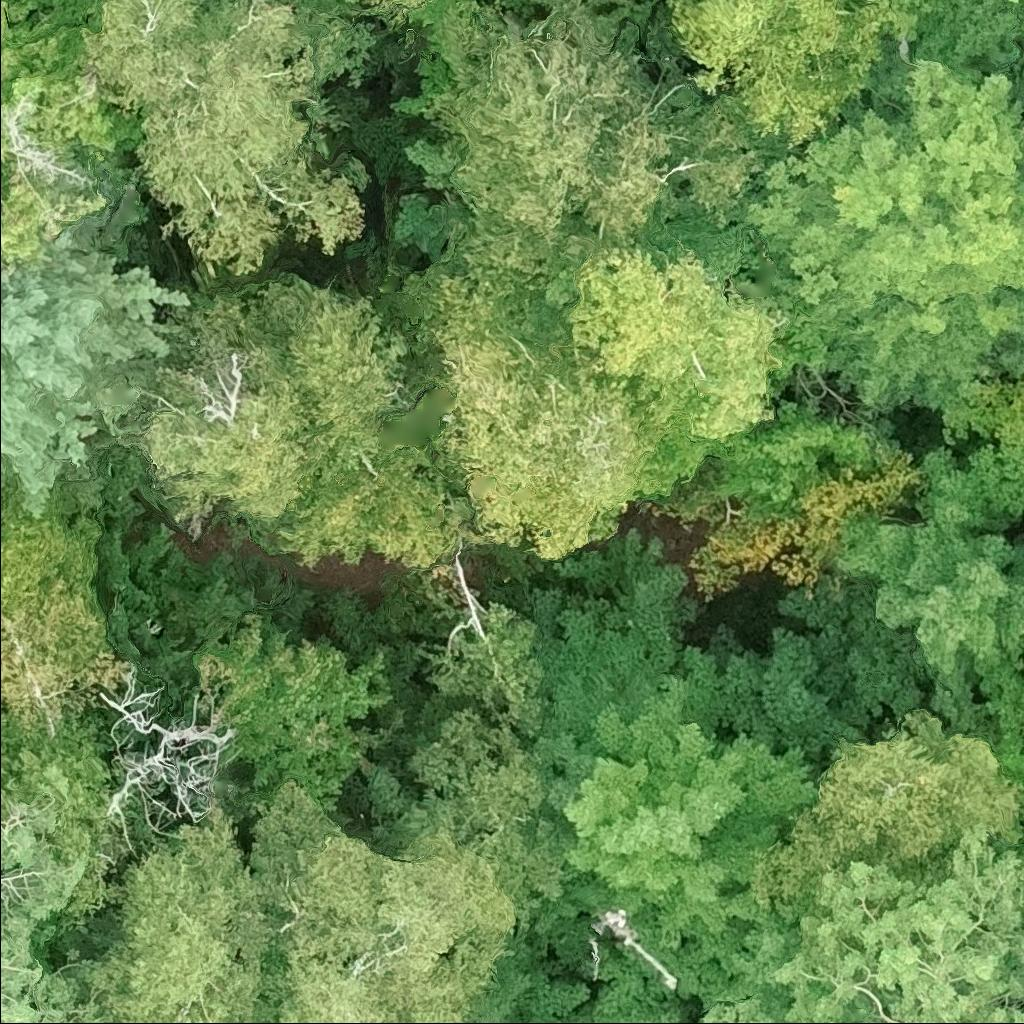crown: (524, 523, 819, 1023), (742, 59, 1023, 412), (396, 0, 782, 251), (399, 208, 668, 560), (78, 0, 377, 280), (248, 785, 567, 1023), (543, 230, 821, 490), (686, 826, 1023, 1023), (0, 220, 194, 515), (751, 705, 1023, 903), (835, 447, 1023, 722), (128, 279, 311, 528), (94, 801, 282, 1023), (189, 615, 389, 812), (723, 572, 927, 752), (0, 469, 131, 736), (665, 0, 887, 153), (251, 273, 410, 480), (254, 449, 479, 575), (0, 782, 116, 1023), (0, 0, 138, 158), (0, 130, 107, 266), (855, 0, 946, 61), (982, 665, 1023, 778), (0, 702, 26, 800), (304, 0, 434, 13), (1004, 809, 1023, 859), (1019, 0, 1023, 24)
